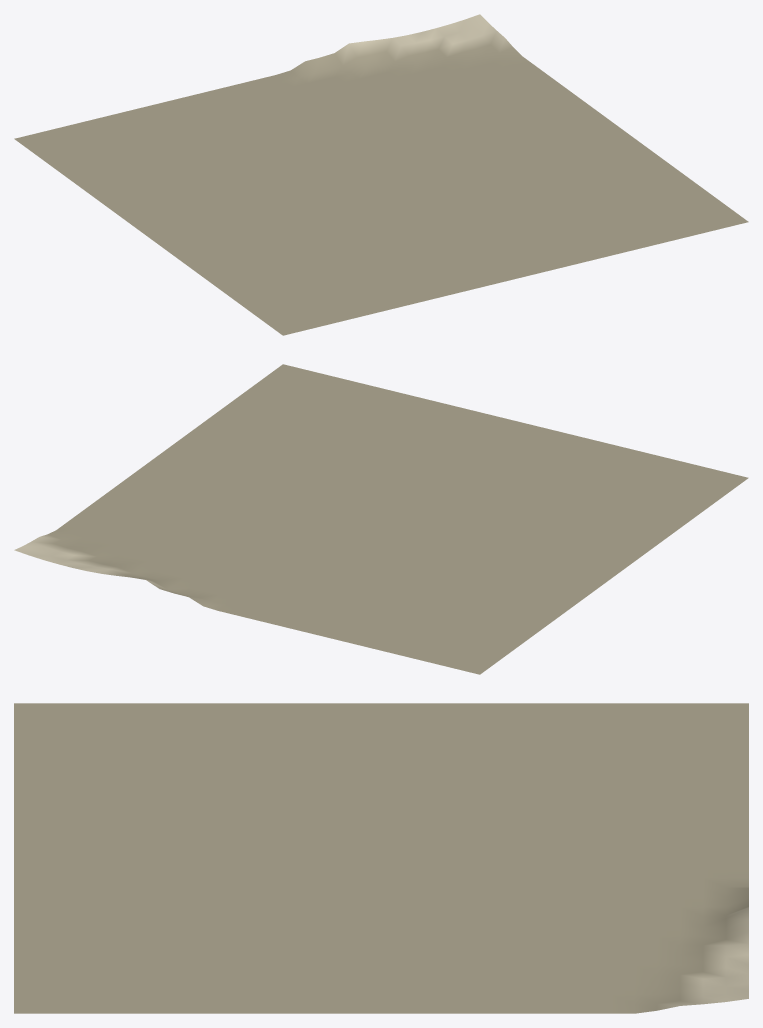
The picture shows the model from 3 angles, top to bottom: view 1: azimuth 30°, elevation 25°; view 2: azimuth 150°, elevation 25°; view 3: azimuth 270°, elevation 25°; orthographic projection. The views are drawn at different scales.
Parts seen in each view (by area): view 1: Terrain-col; view 2: Terrain-col; view 3: Terrain-col.
Boxes of the visible parts, x1,y1,x2,y2 form: Terrain-col: (14, 14, 748, 335); Terrain-col: (14, 364, 748, 674); Terrain-col: (14, 703, 748, 1013).
Bounding box in the file's own units: 256 × 7.15 × 256.
